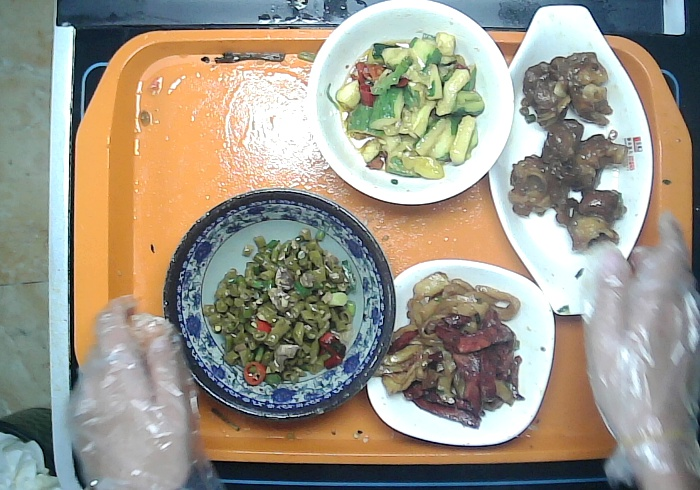ZNLD-Qing_Hua_Wan: (158, 190, 398, 424)
ZNLD-Si_Fang_Wan: (364, 261, 558, 449)
ZNLD-Tang_Wan: (303, 1, 513, 209)
ZNLD-Yu_Pan: (495, 1, 656, 320)
